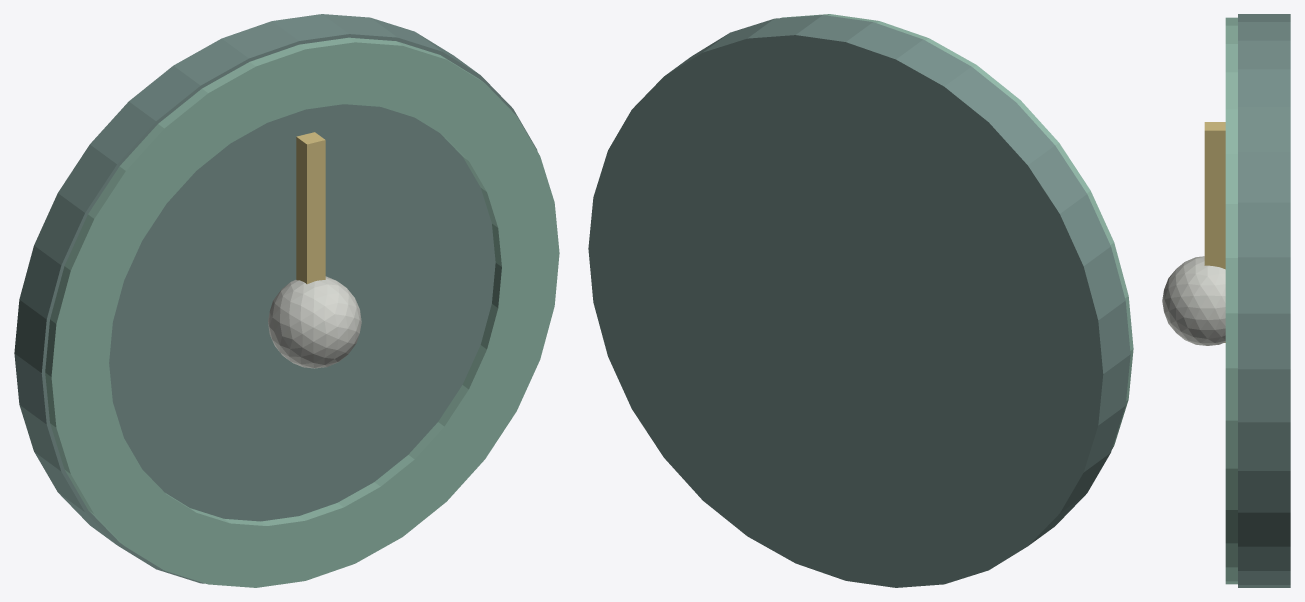
Rendered from performance-gauge-high.glb.
The picture shows the model from 3 angles, left to right: view 1: azimuth 30°, elevation 25°; view 2: azimuth 150°, elevation 25°; view 3: azimuth 270°, elevation 25°; orthographic projection. The views are drawn at different scales.
Visible parts, largest first — view 1: base, ring, hub, needle; view 2: base, ring; view 3: base, ring, hub, needle.
Boxes of the visible parts, x1,y1,x2,y2 form: base: (14,14,537,583); ring: (45,37,559,587); hub: (268,276,361,368); needle: (296,132,325,284); base: (588,15,1130,587); ring: (781,14,1133,448); base: (1238,14,1290,587); ring: (1225,17,1237,584); hub: (1162,256,1225,345); needle: (1204,122,1225,342).
Size of the model in its own units: 1.52 by 1.52 by 0.34.
